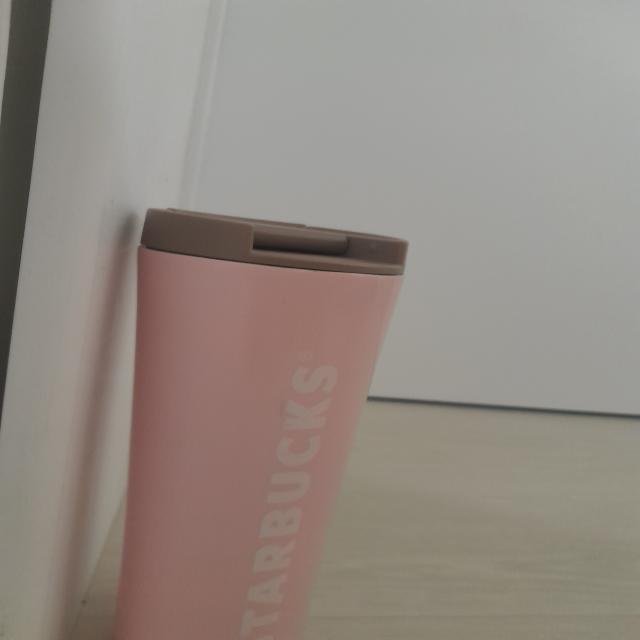waterbottle: (119, 208, 405, 640)
